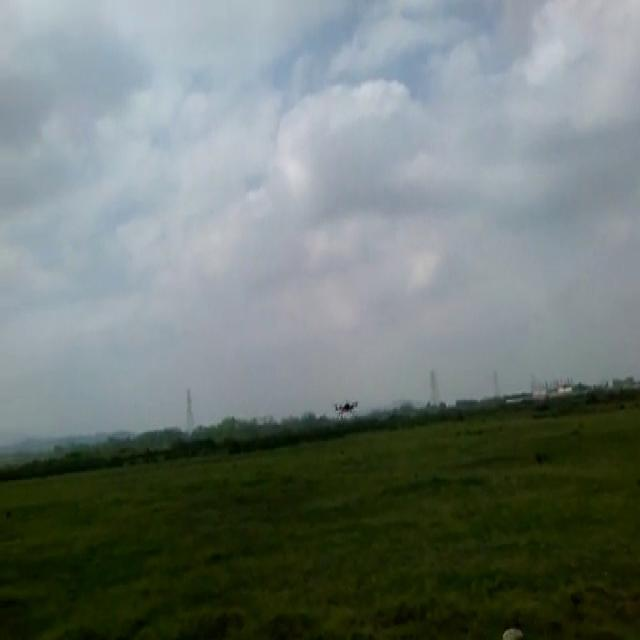drone: (331, 393, 359, 419)
